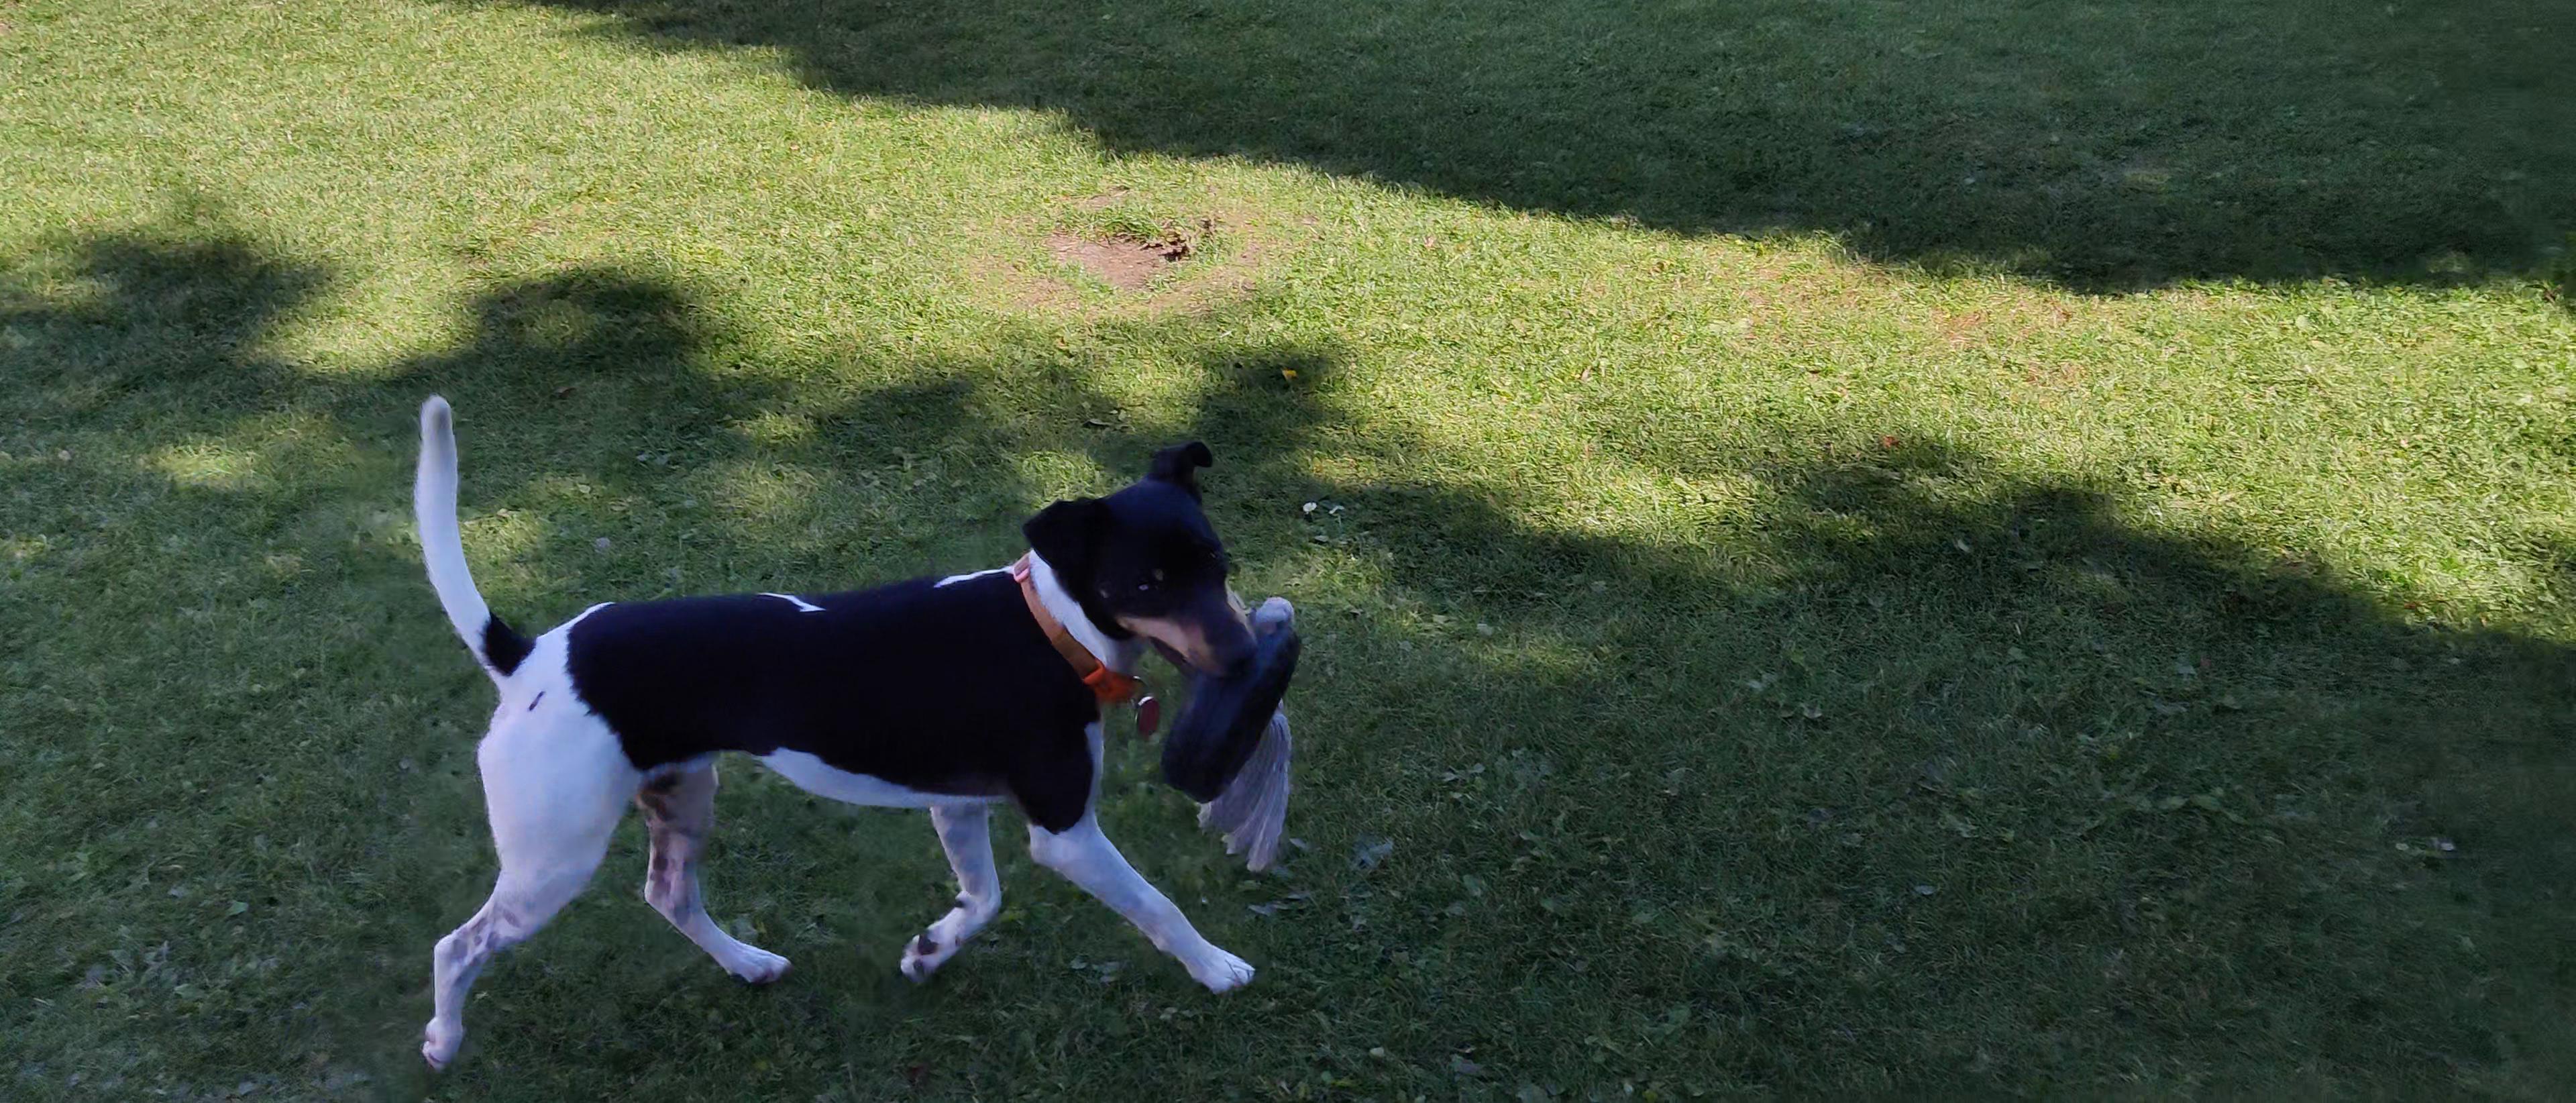Dog: (370, 368, 1290, 1082)
